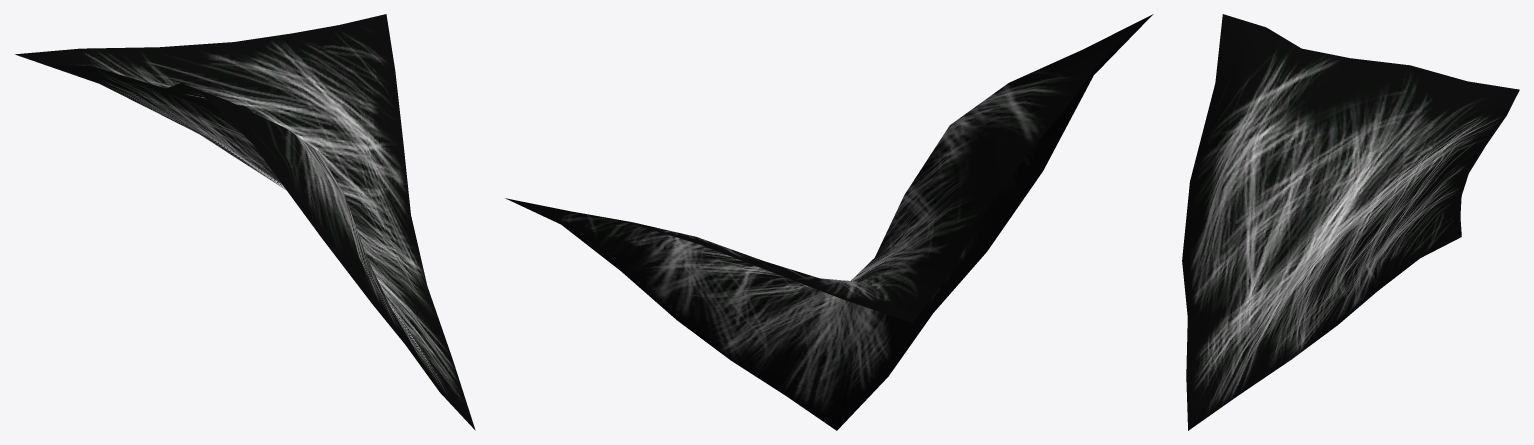
File: SWORDLIGHT20_PS-AREA01_CORNERWEB04.fbx
3 renders of one model, left to right at view 1: azimuth 30°, elevation 25°; view 2: azimuth 150°, elevation 25°; view 3: azimuth 270°, elevation 25°, orthographic. The views are drawn at different scales.
Visible parts, largest first — view 1: SWORDLIGHT20_PS-AREA01_CORNERWEB04; view 2: SWORDLIGHT20_PS-AREA01_CORNERWEB04; view 3: SWORDLIGHT20_PS-AREA01_CORNERWEB04.
Boxes of the visible parts, x1=… form: SWORDLIGHT20_PS-AREA01_CORNERWEB04: x1=15, y1=14, x2=475, y2=430; SWORDLIGHT20_PS-AREA01_CORNERWEB04: x1=505, y1=14, x2=1153, y2=430; SWORDLIGHT20_PS-AREA01_CORNERWEB04: x1=1182, y1=14, x2=1519, y2=430.
Bounding box in the file's own units: 72862 × 79717 × 77432.
1 material, 1 textured.
